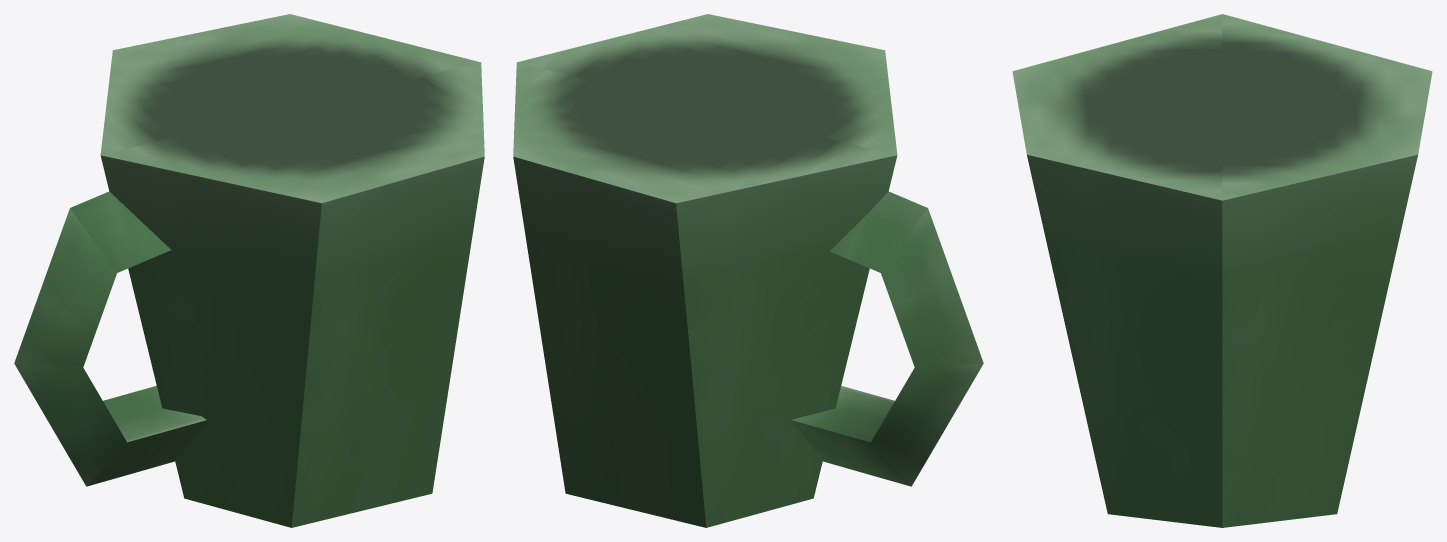
Rendered from CoffeeMug.fbx.
3 renders of one model, left to right at view 1: azimuth 30°, elevation 25°; view 2: azimuth 150°, elevation 25°; view 3: azimuth 270°, elevation 25°, orthographic.
Parts seen in each view (by area): view 1: Maya_File_Assets:TexturedAssetsCurrent:Assets:tea_set_cup; view 2: Maya_File_Assets:TexturedAssetsCurrent:Assets:tea_set_cup; view 3: Maya_File_Assets:TexturedAssetsCurrent:Assets:tea_set_cup.
Part boxes in pixels (left/top/right/bottom): Maya_File_Assets:TexturedAssetsCurrent:Assets:tea_set_cup: left=14, top=14, right=484, bottom=527; Maya_File_Assets:TexturedAssetsCurrent:Assets:tea_set_cup: left=513, top=14, right=983, bottom=527; Maya_File_Assets:TexturedAssetsCurrent:Assets:tea_set_cup: left=1012, top=14, right=1432, bottom=527.
Size of the model in its own units: 0.2036 by 0.1515 by 0.1579.
